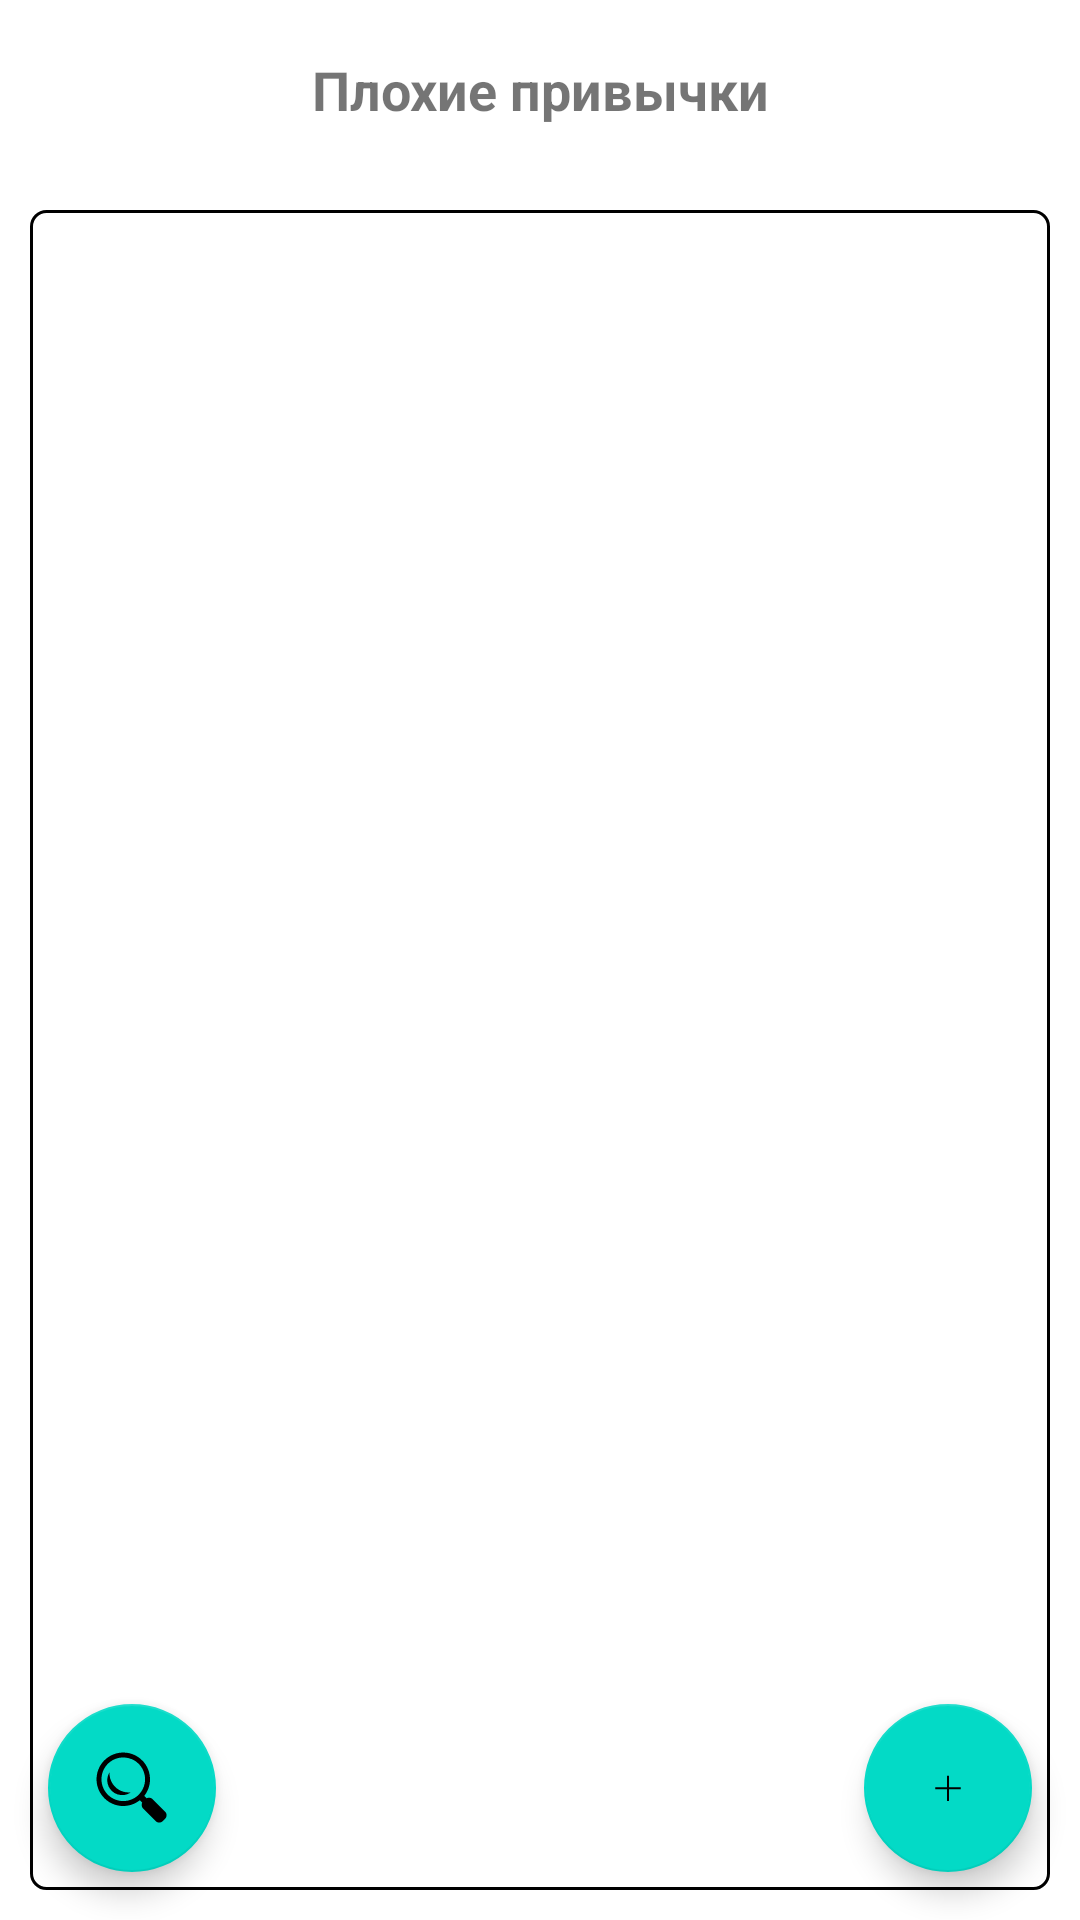

Icon click points for this 1080px x 1920px phone screenshot, format (x=x, y=y):
Добавить: (x=948, y=1788)
Поиск: (x=132, y=1788)
